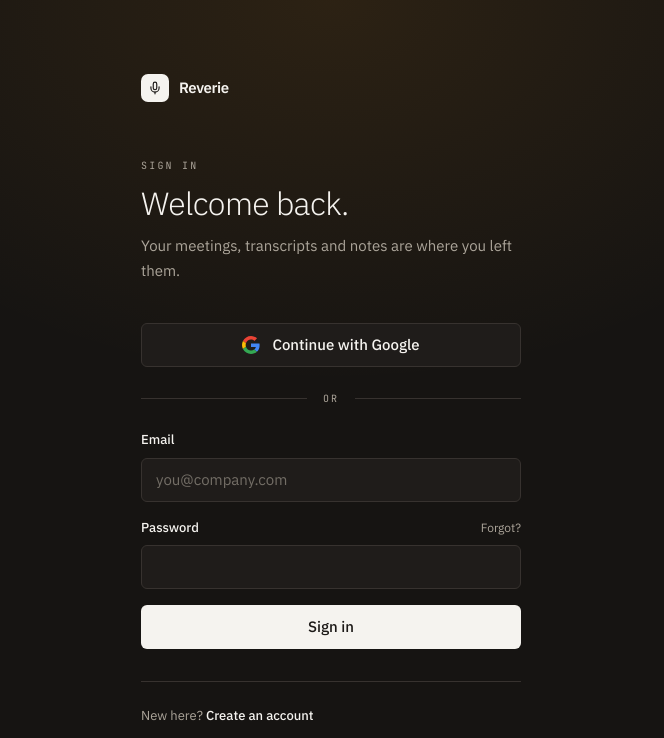
Test: a forgotten password › asks for a code without losing the address already typed
Type "ada@example.com" into the field labelled "Email".
click(331, 480); type("ada@example.com")  # box [141,458,521,502]
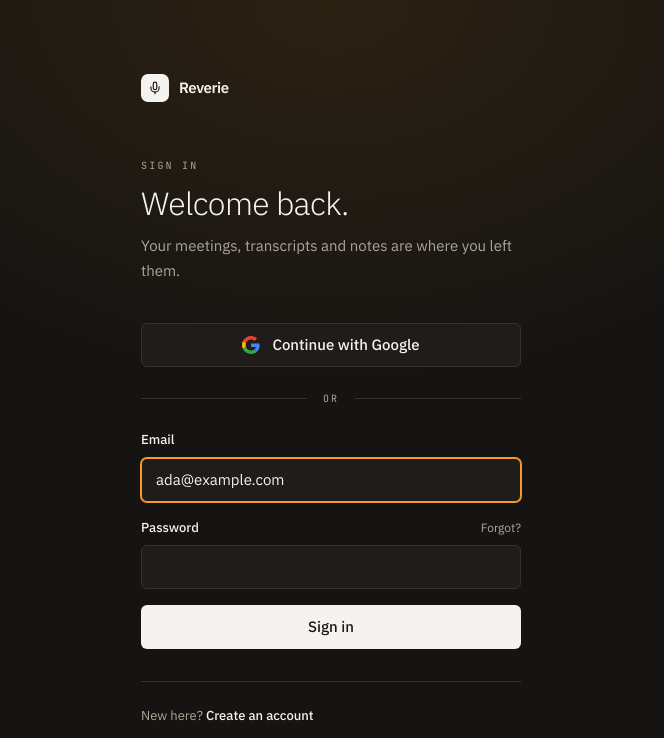
Click the button "Forgot?".
click(501, 528)  # box [481,518,521,536]
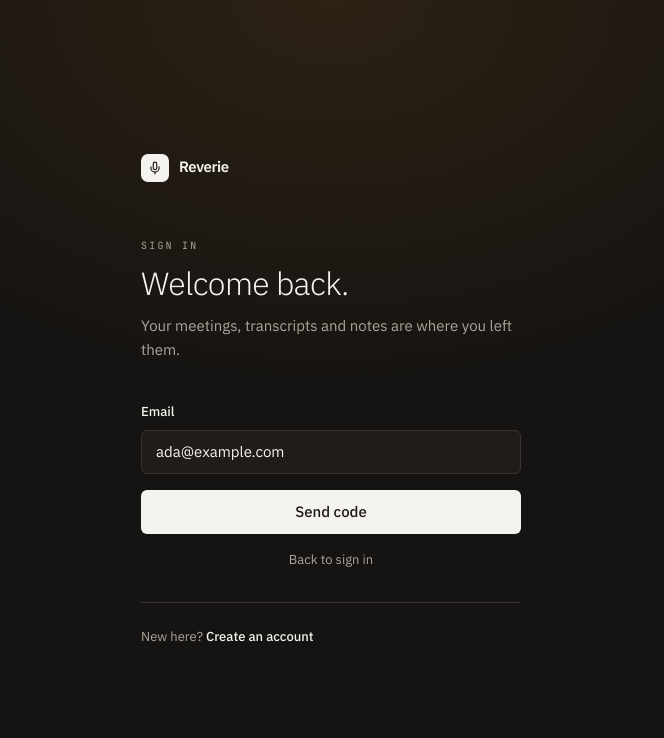
Now the button "Send code" is shown, box [141,490,521,534]
